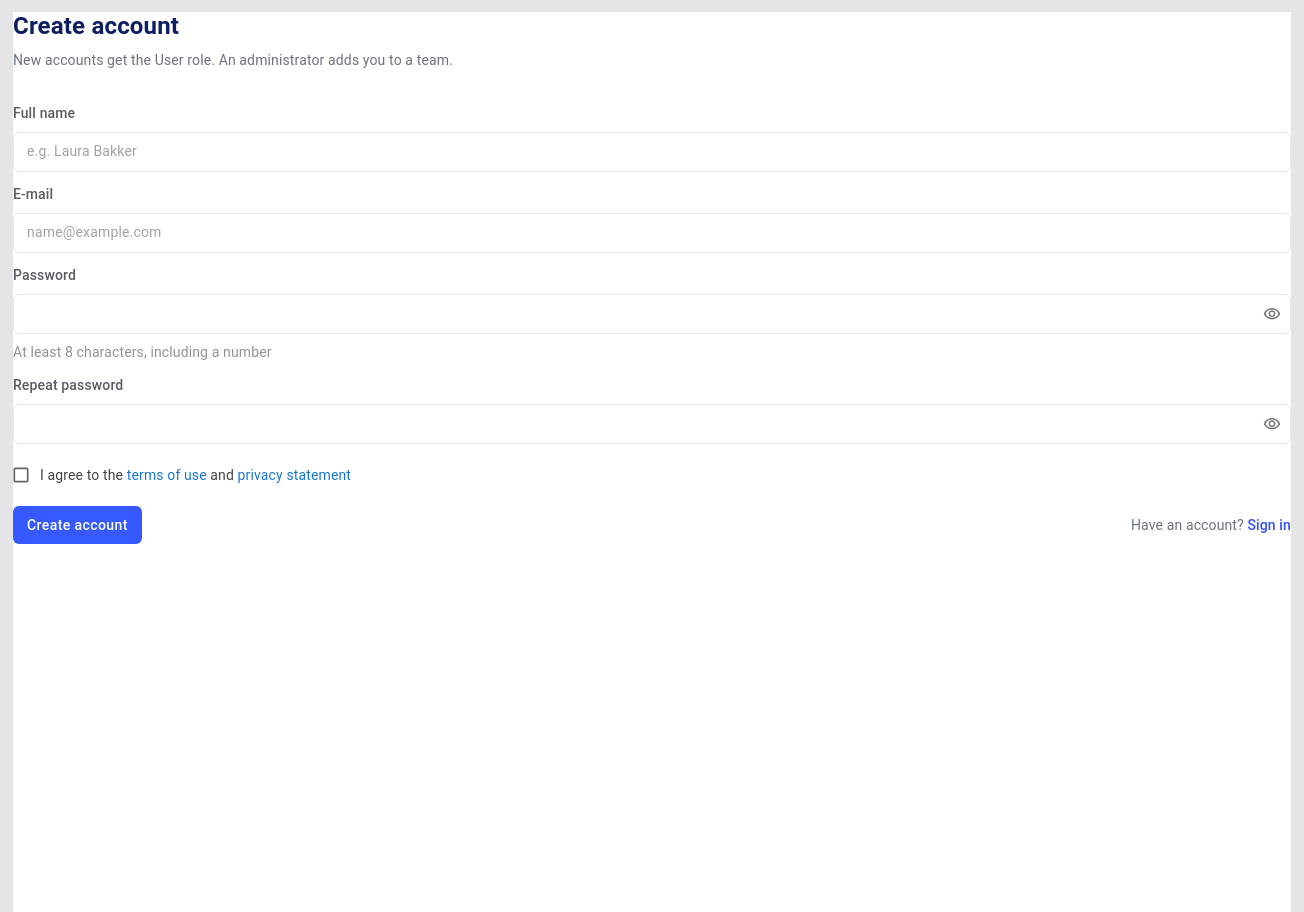
CreateAccountForm validation › rejects a weak password
This screenshot has width=1304, height=912.
Type "Laura" into the field labelled "Full name" at x=652, y=152, box [13,132,1291,172]
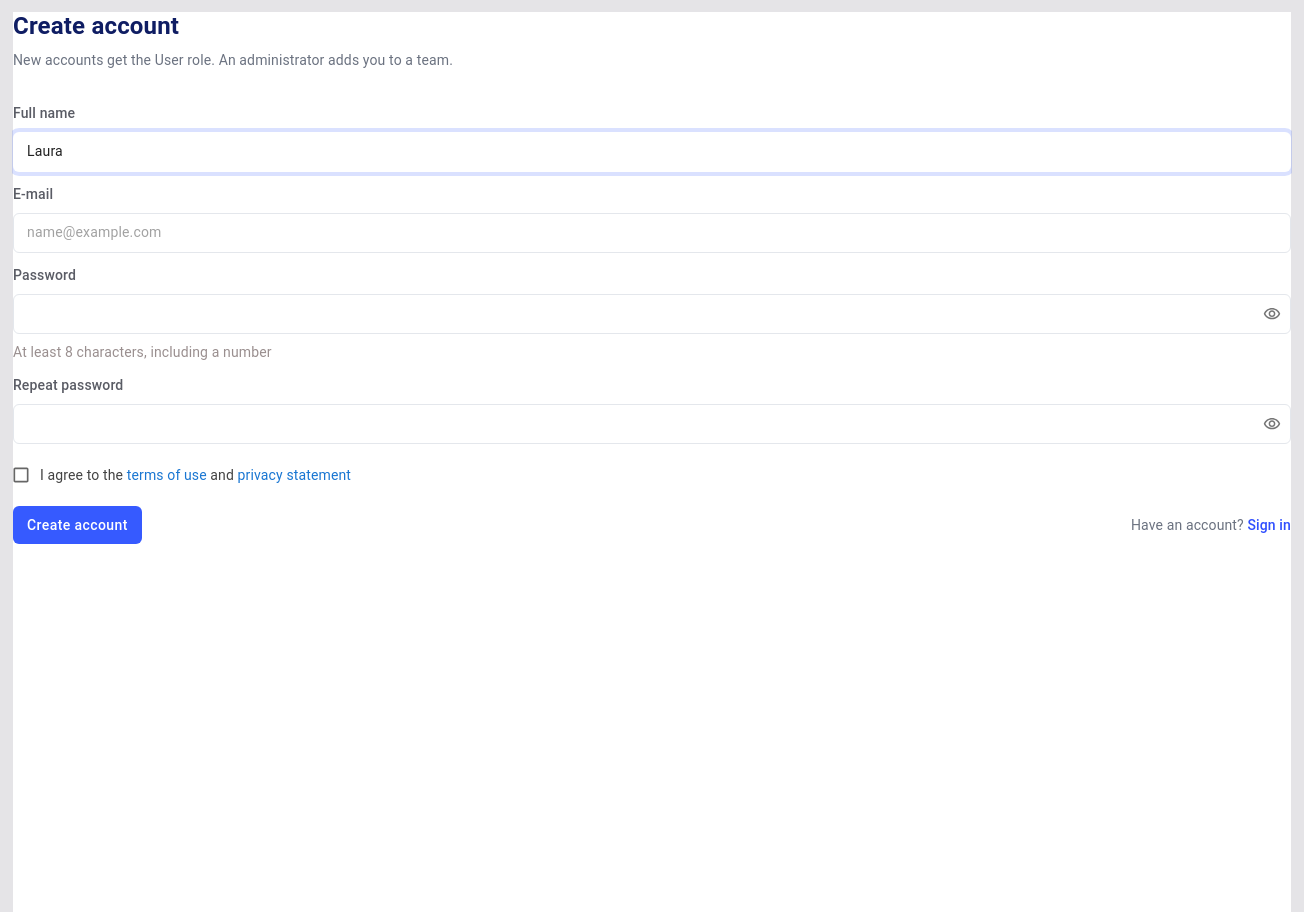
Type "laura@example.com" into the field labelled "E-mail" at x=652, y=233, box [13,213,1291,253]
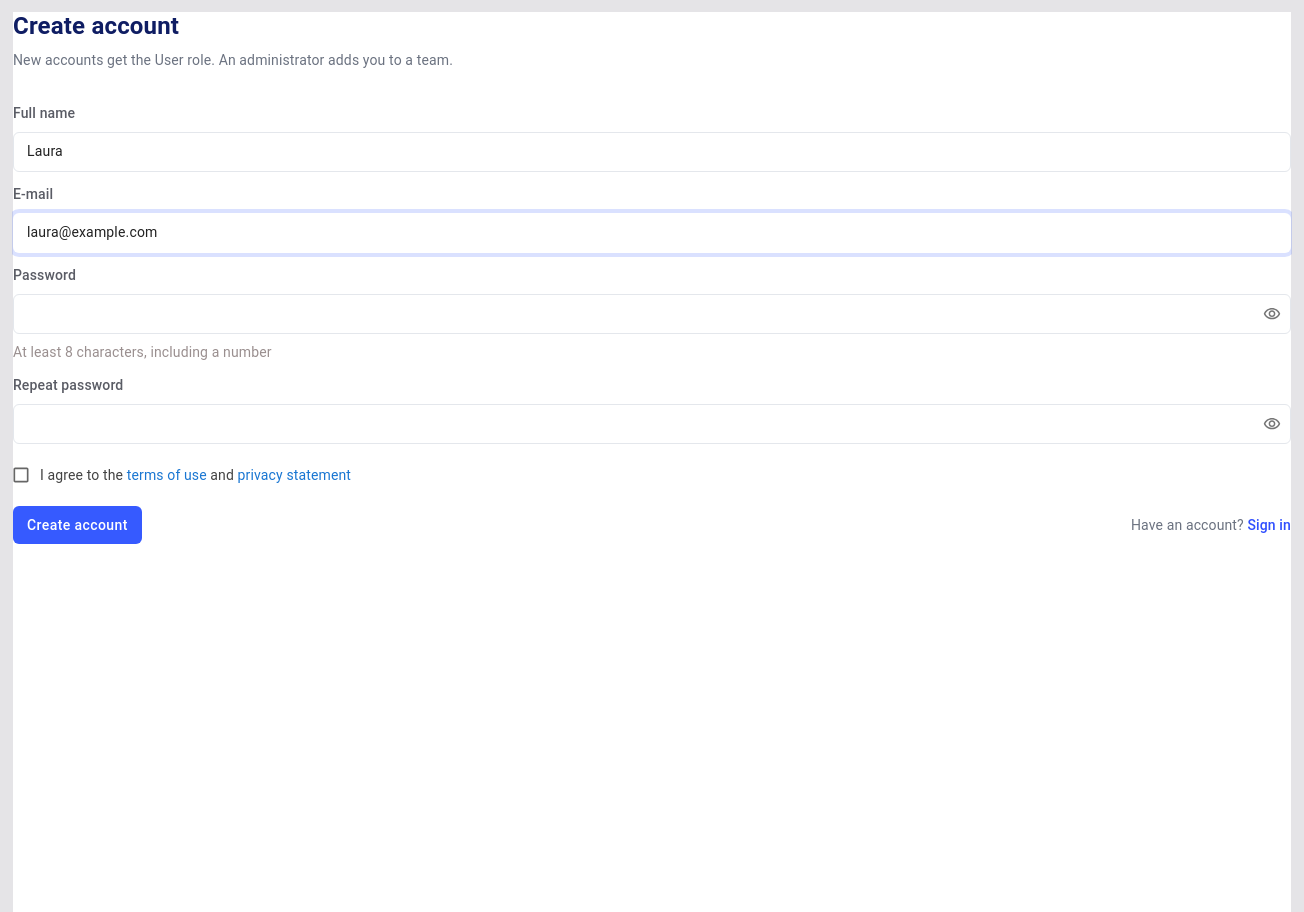
Type "short" into the password field labelled "Password" at x=630, y=314, box [13,294,1247,334]
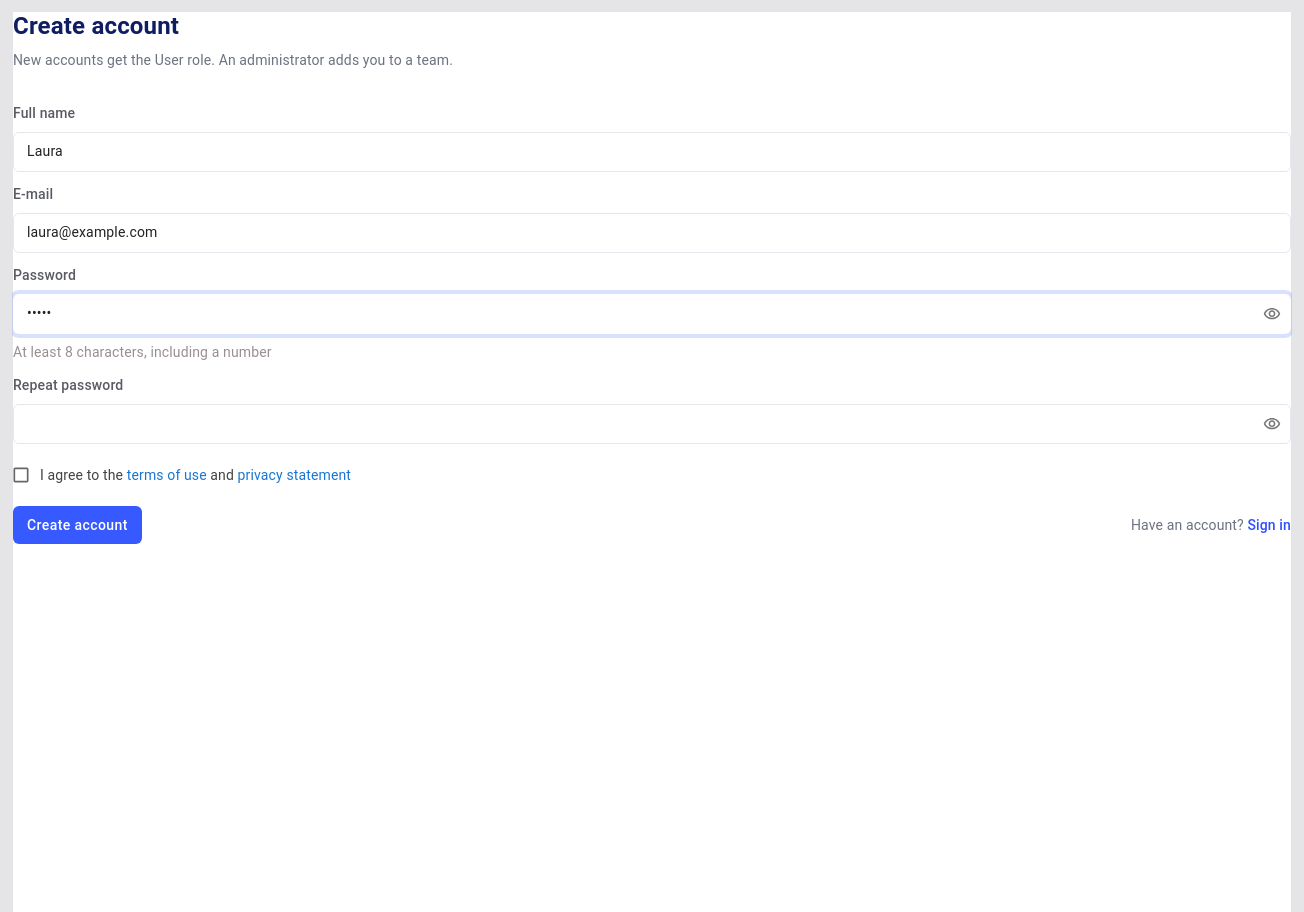
Type "short" into the password field labelled "Repeat password" at x=630, y=424, box [13,404,1247,444]
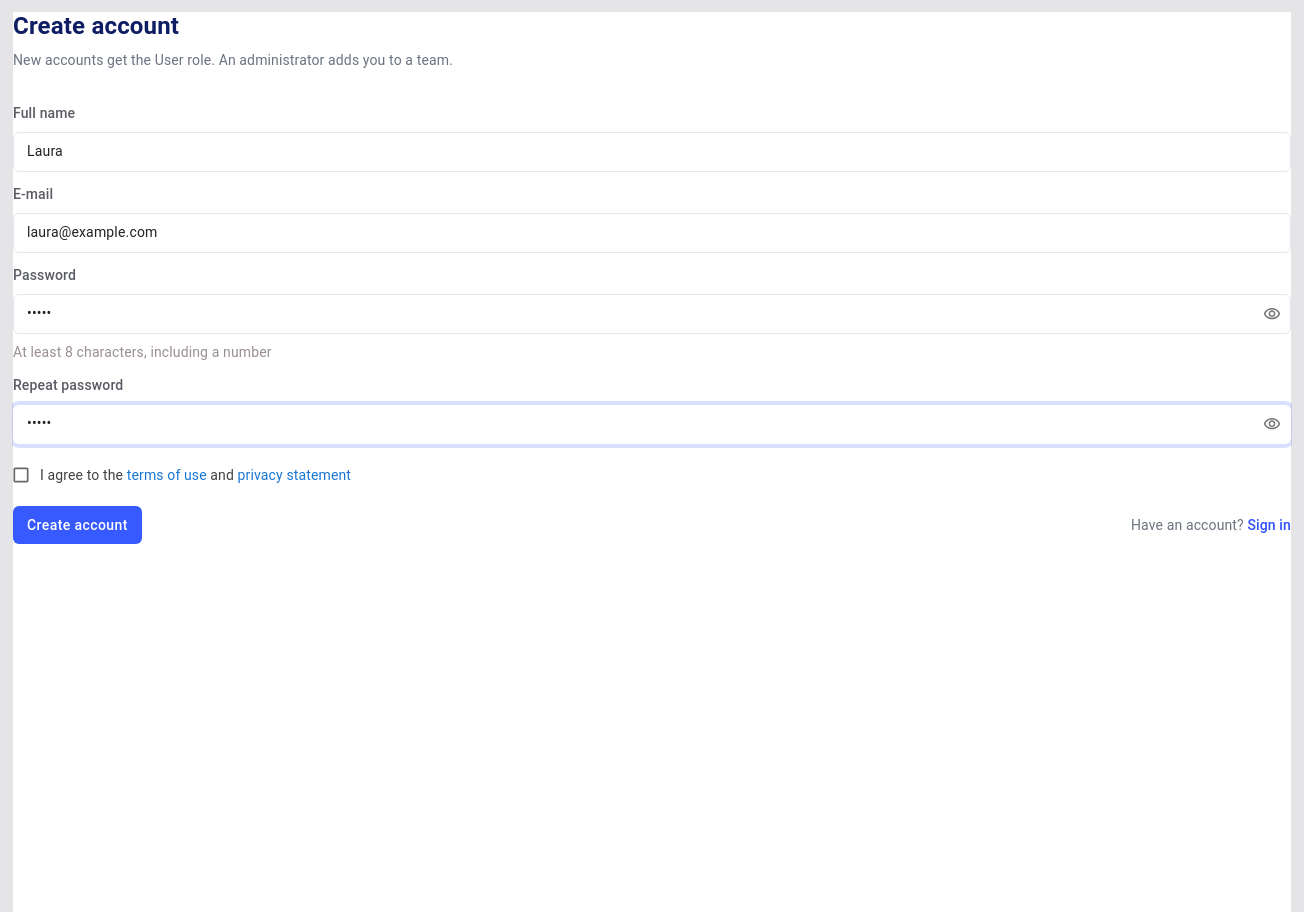
Click the checkbox at x=181, y=475, box [11,465,351,485]
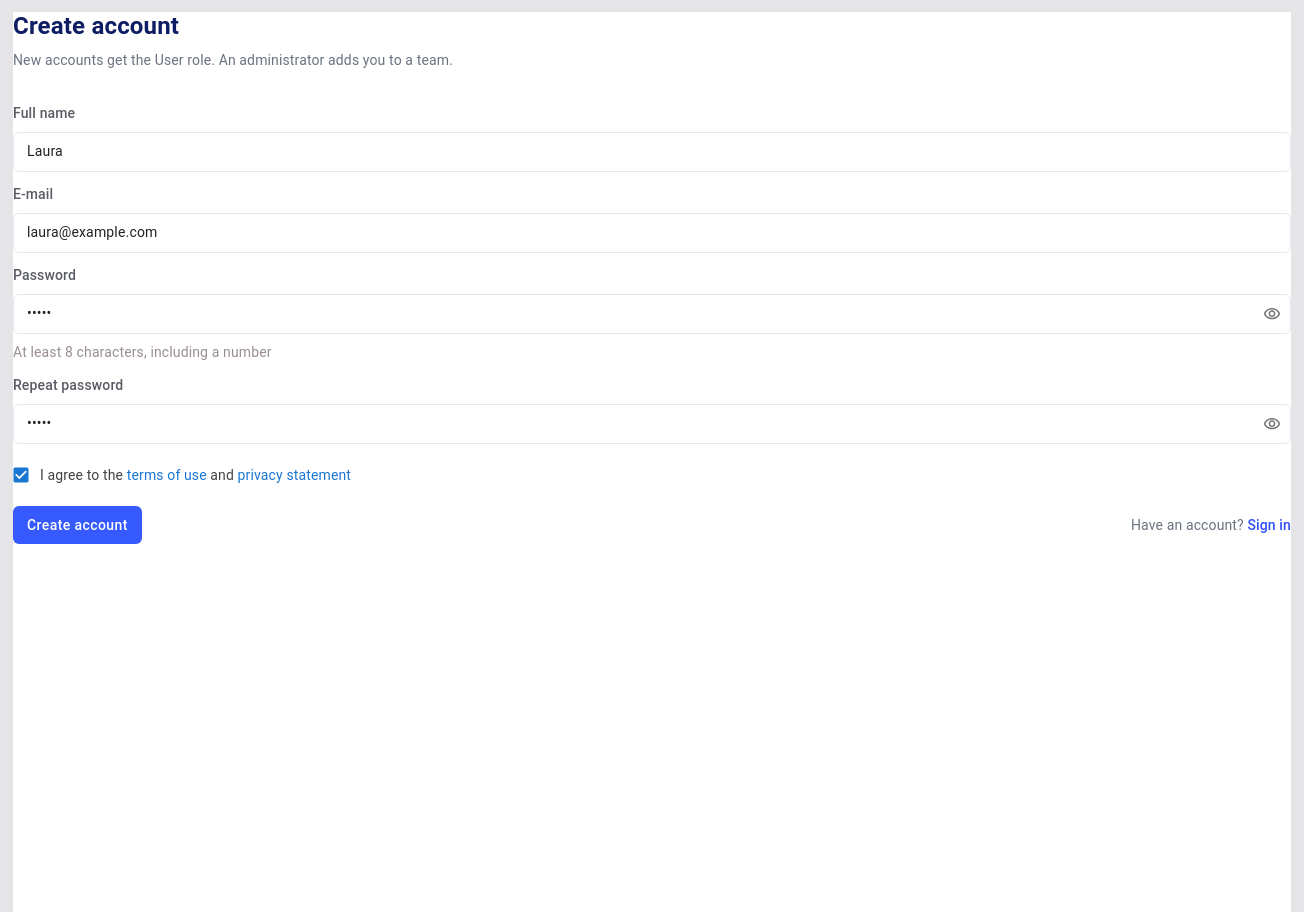
Click the button "Create account" at x=77, y=525, box [13,506,142,544]
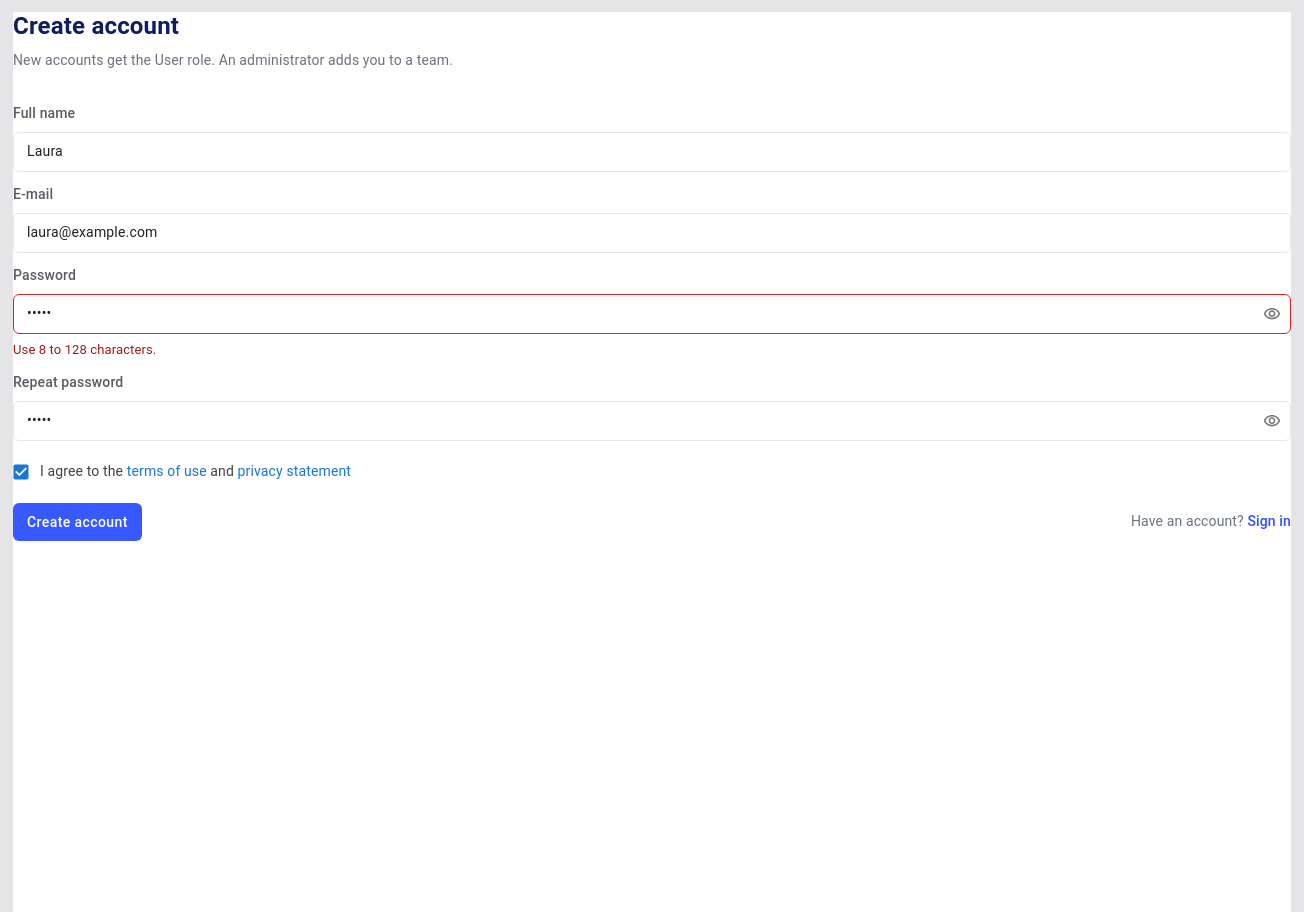
Result: the text "Use 8 to 128 characters." is shown at [13,342,156,357]
